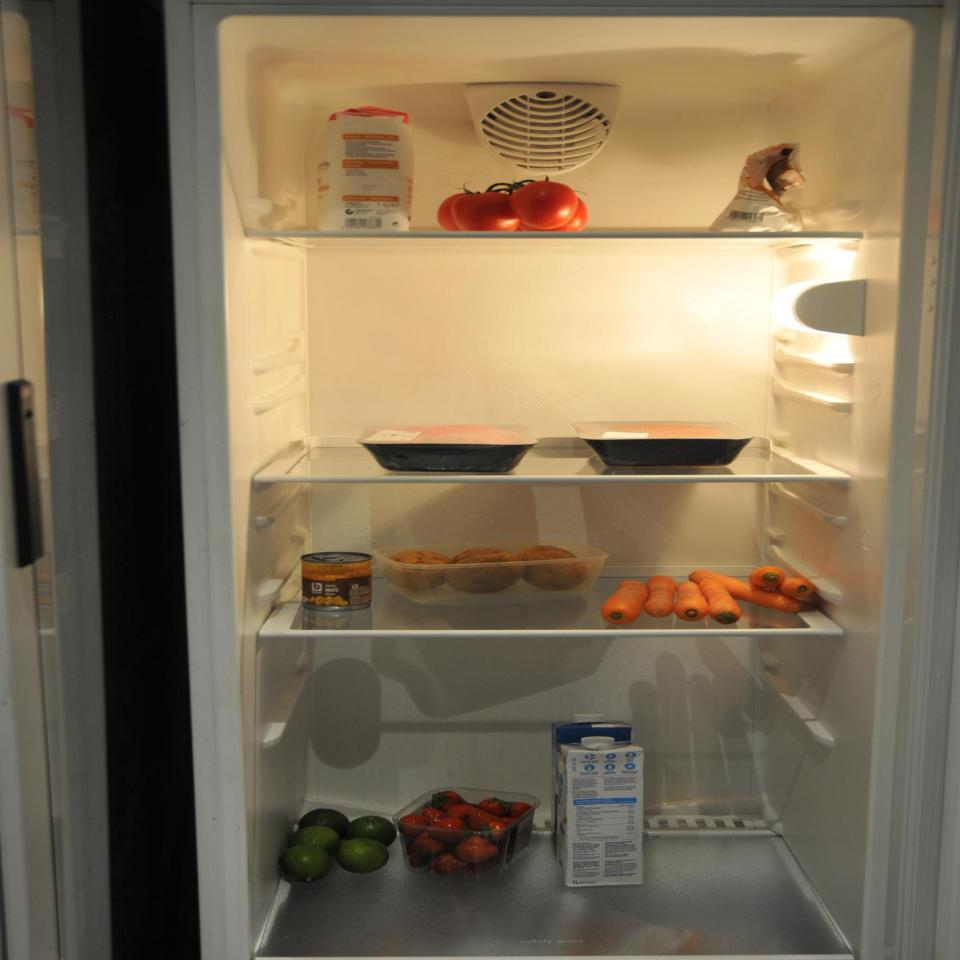Leche: (544, 712, 634, 874), (554, 732, 642, 888)
Tomate: (432, 175, 593, 236)
Zanahoria: (598, 564, 824, 627)
lime: (279, 802, 390, 885)
strawberries: (397, 791, 534, 877)
